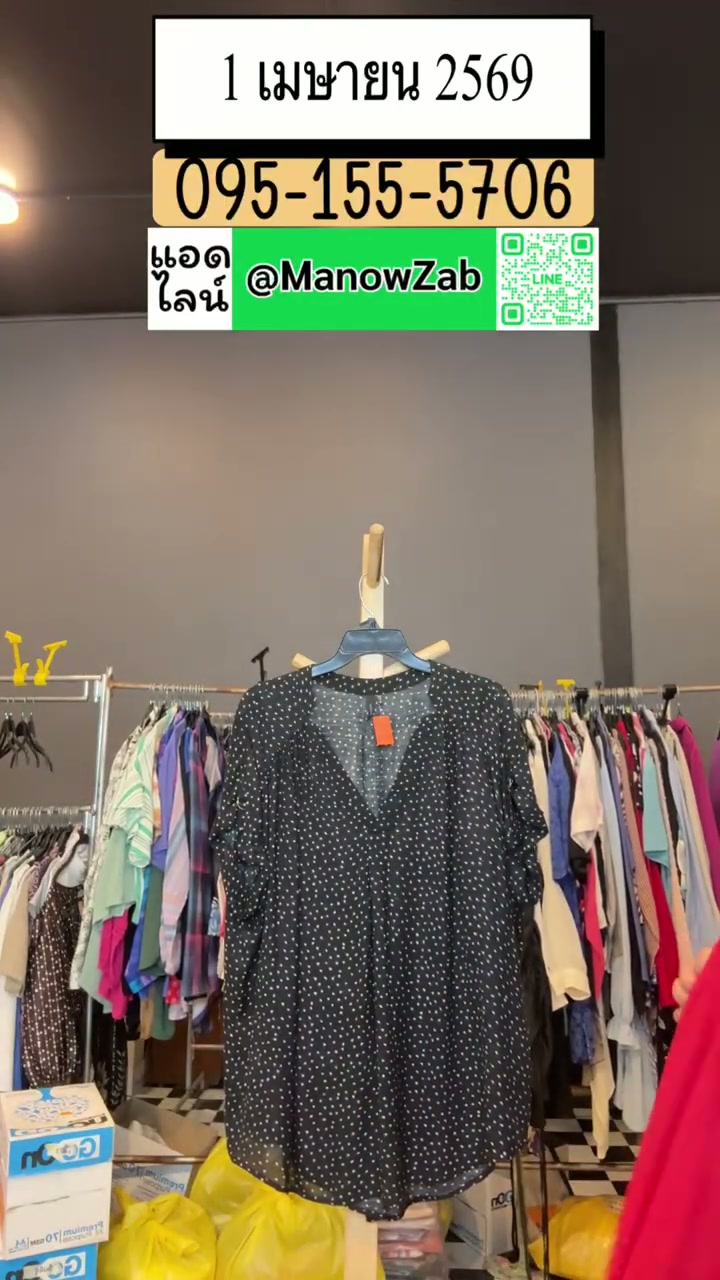display_shirt: (215, 657, 545, 1220)
